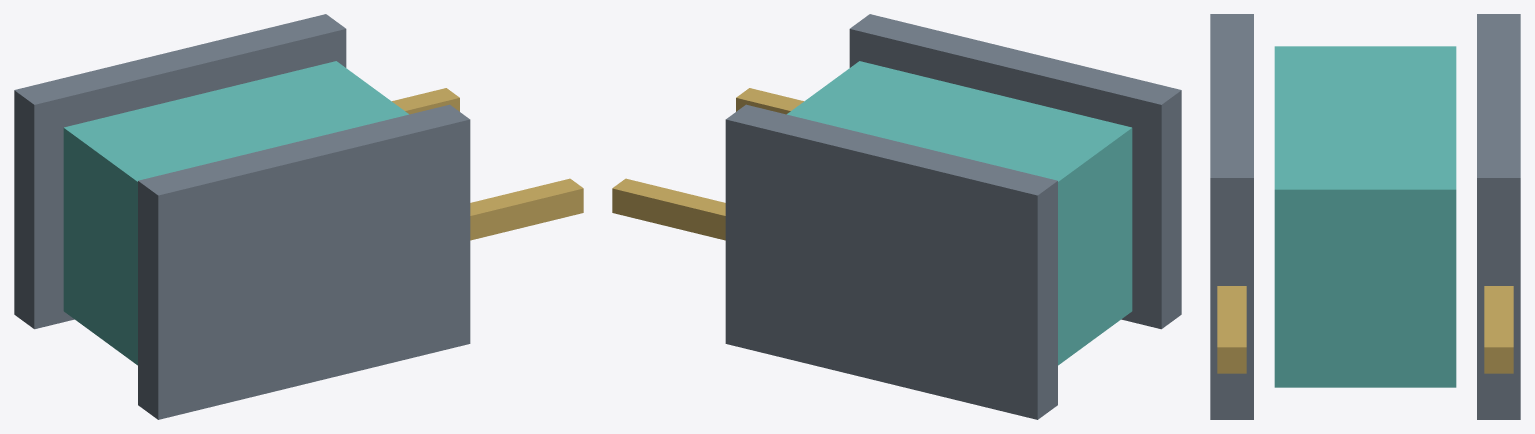
Rendered from piezoelectric-sensor.glb.
3 renders of one model, left to right at view 1: azimuth 30°, elevation 25°; view 2: azimuth 150°, elevation 25°; view 3: azimuth 270°, elevation 25°, orthographic. The views are drawn at different scales.
Parts seen in each view (by area): view 1: Top electrode, Piezoelectric crystal, Bottom electrode, Top lead, Bottom lead; view 2: Bottom electrode, Piezoelectric crystal, Top electrode, Bottom lead, Top lead; view 3: Piezoelectric crystal, Bottom electrode, Top electrode, Top lead, Bottom lead.
Boxes of the visible parts, left/top/right/bottom form: Top electrode: left=138, top=104, right=470, bottom=419; Piezoelectric crystal: left=63, top=61, right=408, bottom=365; Bottom electrode: left=14, top=14, right=346, bottom=329; Top lead: left=470, top=178, right=583, bottom=240; Bottom lead: left=392, top=88, right=459, bottom=114; Bottom electrode: left=725, top=104, right=1057, bottom=419; Piezoelectric crystal: left=787, top=61, right=1132, bottom=365; Top electrode: left=849, top=14, right=1181, bottom=329; Bottom lead: left=612, top=178, right=725, bottom=240; Top lead: left=736, top=88, right=803, bottom=114; Piezoelectric crystal: left=1274, top=46, right=1456, bottom=387; Bottom electrode: left=1477, top=14, right=1520, bottom=419; Top electrode: left=1210, top=14, right=1253, bottom=419; Top lead: left=1217, top=286, right=1246, bottom=373; Bottom lead: left=1484, top=286, right=1513, bottom=373.
Bounding box in the file's own units: 0.22 × 0.11 × 0.128.
